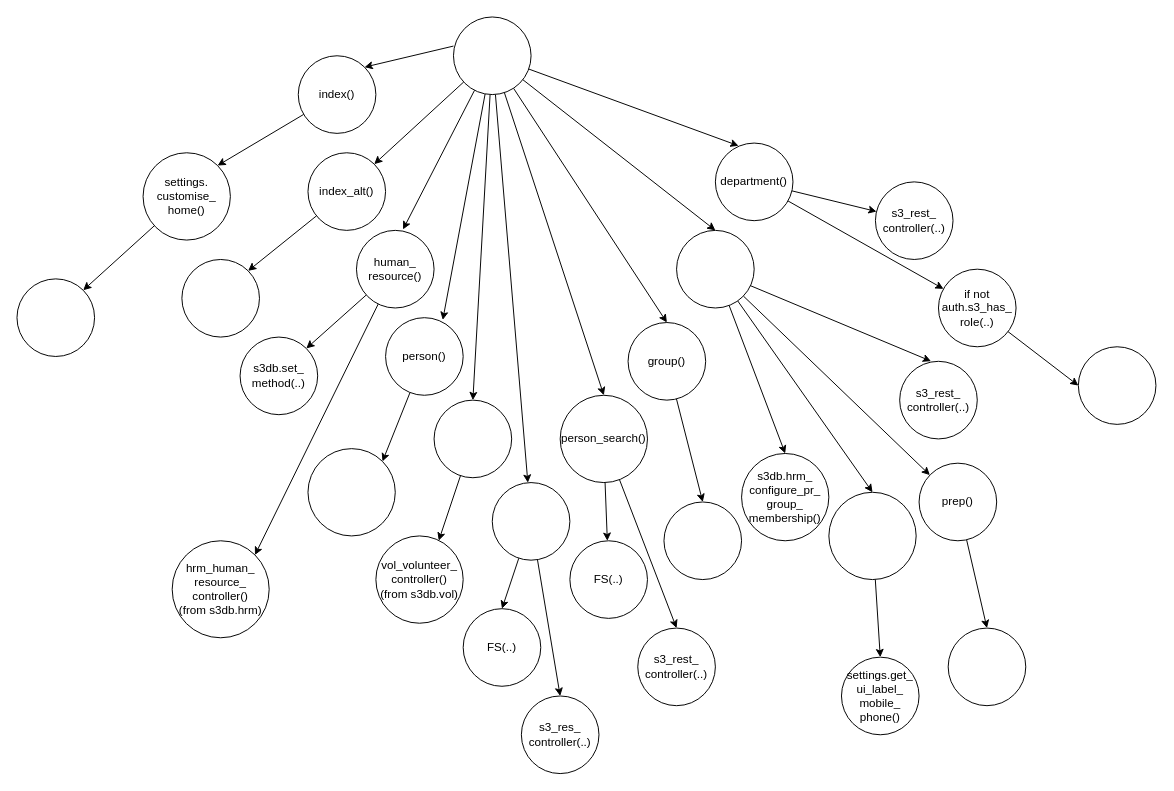
The diagram is 1174 pixels wide and 791 high, and some of its shapes have lost their labels. The shapes that lost their labels are listed below. From the top down, each one's centre as x and y in pixels, then its label:
(492,55): vol.py
(715,268): group_ membership()
(55,317): alt_function= "index_alt"
(220,298): s3_redirect_ default(..)
(1116,385): auth.filter_by_ root_org(..)
(472,438): volunteer()
(351,492): vol_person_ controller() (from s3db.vol)
(530,521): hr_search()
(702,540): s3db.hrm_ group_ controller()
(872,535): s3db.configure(..)
(986,666): get_vars.get(..)
